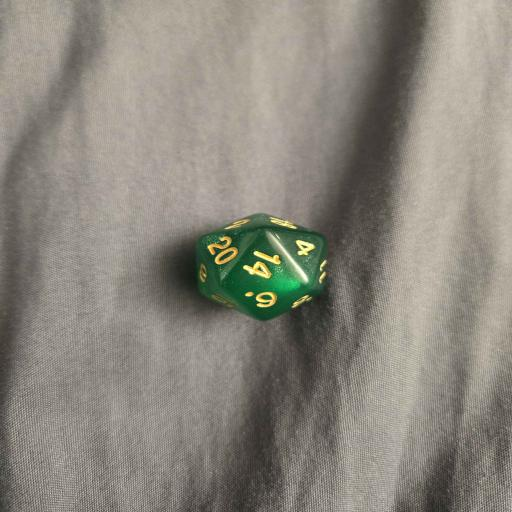twenty sided dice: (195, 213, 327, 321)
